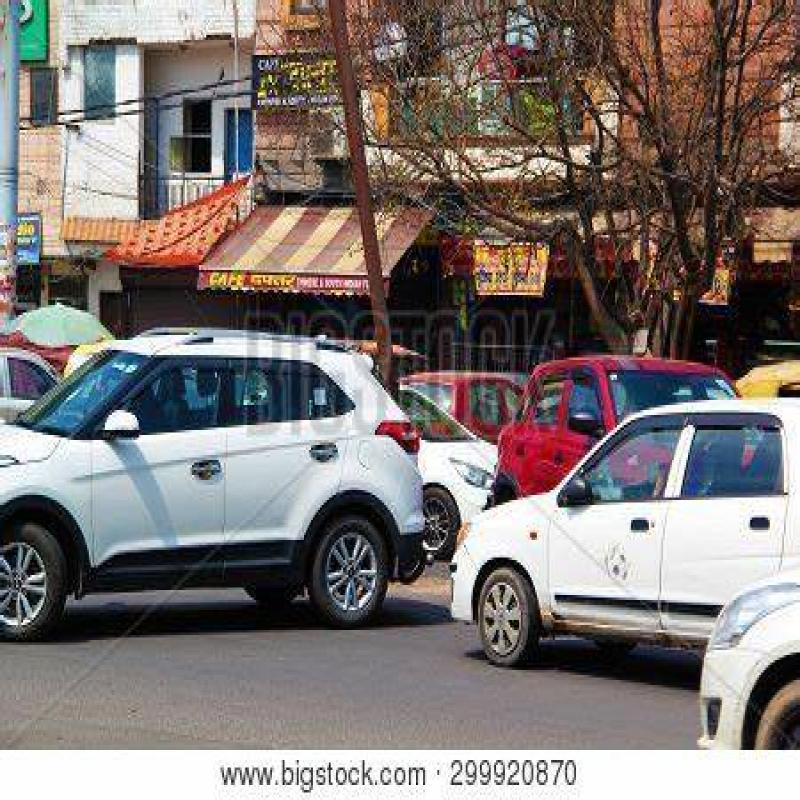car: (0, 318, 419, 693), (453, 413, 800, 726)
